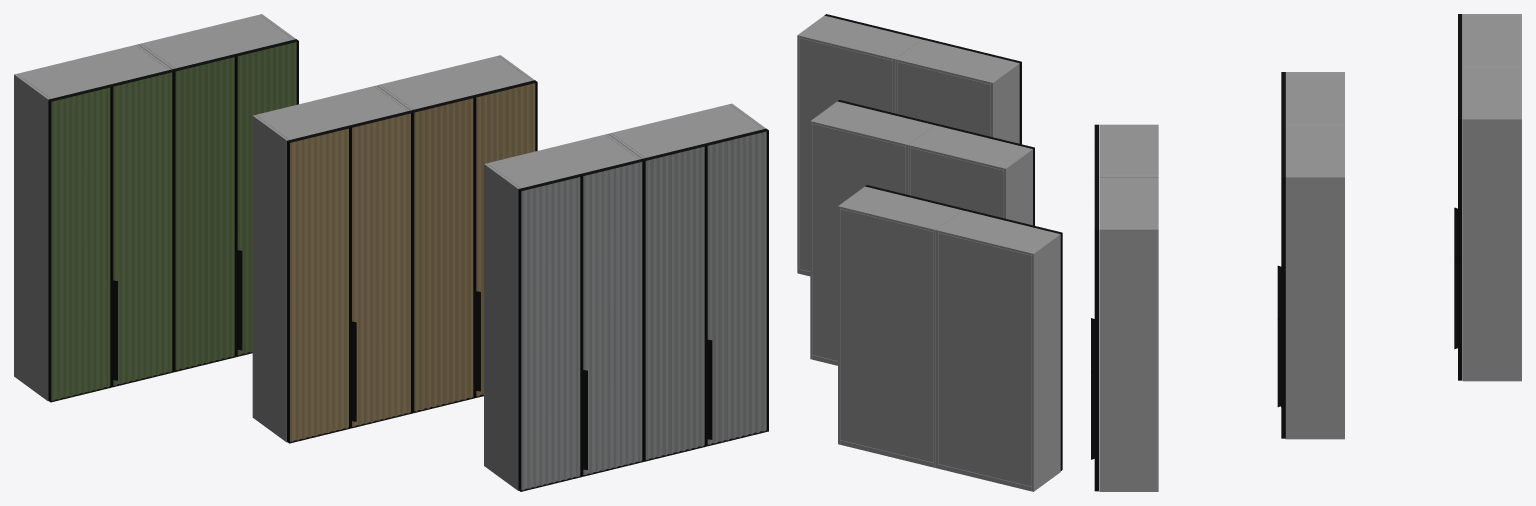
Rendered from Cupboard.fbx.
The picture shows the model from 3 angles, left to right: view 1: azimuth 30°, elevation 25°; view 2: azimuth 150°, elevation 25°; view 3: azimuth 270°, elevation 25°; orthographic projection. The views are drawn at different scales.
Parts seen in each view (by area): view 1: Cupboard MY 55, Cupboard MY 55_025, Cupboard MY 55_026, Cupboard MY 55_016, Cupboard MY 55_015, Cupboard MY 55_020, Cupboard MY 55_021, Cupboard MY 55_011, Cupboard MY 55_018, Cupboard MY 55_028, Cupboard MY 55_010, Cupboard MY 55_024 (+5 smaller); view 2: Cupboard MY 55, Cupboard MY 55_019, Cupboard MY 55_029, Cupboard MY 55_028, Cupboard MY 55_018, Cupboard MY 55_024, Cupboard MY 55_014; view 3: Cupboard MY 55, Cupboard MY 55_019, Cupboard MY 55_029, Cupboard MY 55_028, Cupboard MY 55_018, Cupboard MY 55_017, Cupboard MY 55_027, Cupboard MY 55_014, Cupboard MY 55_024.
Part boxes in pixels (x1=…): Cupboard MY 55: x1=14, y1=14, x2=298, y2=402; Cupboard MY 55_025: x1=521, y1=177, x2=580, y2=490; Cupboard MY 55_026: x1=645, y1=146, x2=704, y2=459; Cupboard MY 55_016: x1=414, y1=98, x2=473, y2=411; Cupboard MY 55_015: x1=290, y1=128, x2=348, y2=441; Cupboard MY 55_020: x1=707, y1=131, x2=766, y2=444; Cupboard MY 55_021: x1=583, y1=162, x2=642, y2=474; Cupboard MY 55_011: x1=352, y1=113, x2=410, y2=426; Cupboard MY 55_018: x1=252, y1=85, x2=410, y2=442; Cupboard MY 55_028: x1=484, y1=134, x2=641, y2=490; Cupboard MY 55_010: x1=476, y1=83, x2=535, y2=396; Cupboard MY 55_024: x1=518, y1=159, x2=644, y2=491; Cupboard MY 55: x1=838, y1=185, x2=1062, y2=491; Cupboard MY 55_019: x1=810, y1=101, x2=934, y2=365; Cupboard MY 55_029: x1=797, y1=15, x2=921, y2=276; Cupboard MY 55_028: x1=895, y1=39, x2=1019, y2=143; Cupboard MY 55_018: x1=908, y1=125, x2=1032, y2=225; Cupboard MY 55_024: x1=922, y1=38, x2=1021, y2=144; Cupboard MY 55_014: x1=935, y1=124, x2=1034, y2=225; Cupboard MY 55: x1=1454, y1=14, x2=1521, y2=381; Cupboard MY 55_019: x1=1285, y1=124, x2=1344, y2=439; Cupboard MY 55_029: x1=1099, y1=177, x2=1158, y2=491; Cupboard MY 55_028: x1=1099, y1=124, x2=1158, y2=177; Cupboard MY 55_018: x1=1285, y1=72, x2=1344, y2=124; Cupboard MY 55_017: x1=1277, y1=124, x2=1285, y2=438; Cupboard MY 55_027: x1=1091, y1=177, x2=1098, y2=491; Cupboard MY 55_014: x1=1277, y1=72, x2=1285, y2=318; Cupboard MY 55_024: x1=1091, y1=124, x2=1098, y2=371.
Size of the model in its own units: 4937 by 2800 by 4167.
